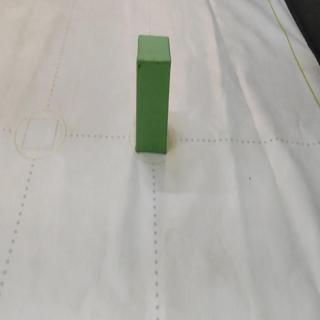greenbox: (134, 33, 173, 155)
